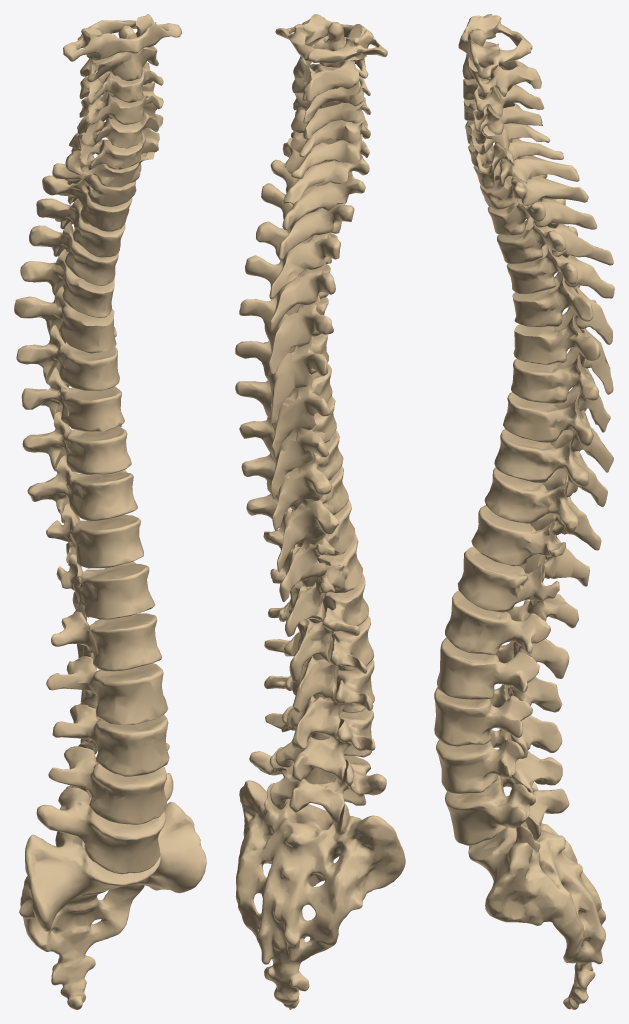
The model's file is explorar-spine.glb.
3 renders of one model, left to right at view 1: azimuth 30°, elevation 25°; view 2: azimuth 150°, elevation 25°; view 3: azimuth 270°, elevation 25°, orthographic. The views are drawn at different scales.
Parts seen in each view (by area): view 1: spine__toracica, spine__lumbar, spine__sacro, spine__cervical, spine__atlas, spine__axis, spine__coccix; view 2: spine__toracica, spine__sacro, spine__lumbar, spine__cervical, spine__atlas, spine__axis, spine__coccix; view 3: spine__toracica, spine__lumbar, spine__sacro, spine__cervical, spine__atlas, spine__axis, spine__coccix.
Part boxes in pixels (left/top/right/bottom): spine__toracica: left=14, top=152, right=155, bottom=620; spine__lumbar: left=36, top=611, right=173, bottom=874; spine__sacro: left=19, top=802, right=206, bottom=961; spine__cervical: left=65, top=62, right=163, bottom=187; spine__atlas: left=63, top=14, right=181, bottom=61; spine__axis: left=80, top=25, right=158, bottom=82; spine__coccix: left=51, top=954, right=95, bottom=1009; spine__toracica: left=235, top=159, right=365, bottom=636; spine__sacro: left=235, top=780, right=405, bottom=972; spine__lumbar: left=249, top=574, right=386, bottom=824; spine__cervical: left=282, top=63, right=371, bottom=204; spine__atlas: left=275, top=14, right=387, bottom=63; spine__axis: left=293, top=22, right=368, bottom=102; spine__coccix: left=264, top=964, right=309, bottom=1009; spine__toracica: left=457, top=159, right=614, bottom=628; spine__lumbar: left=434, top=590, right=569, bottom=845; spine__sacro: left=468, top=782, right=605, bottom=969; spine__cervical: left=463, top=77, right=579, bottom=188; spine__atlas: left=458, top=14, right=532, bottom=79; spine__axis: left=462, top=28, right=541, bottom=96; spine__coccix: left=563, top=962, right=595, bottom=1009.
Size of the model in its own units: 0.1223 by 0.6999 by 0.1166.
